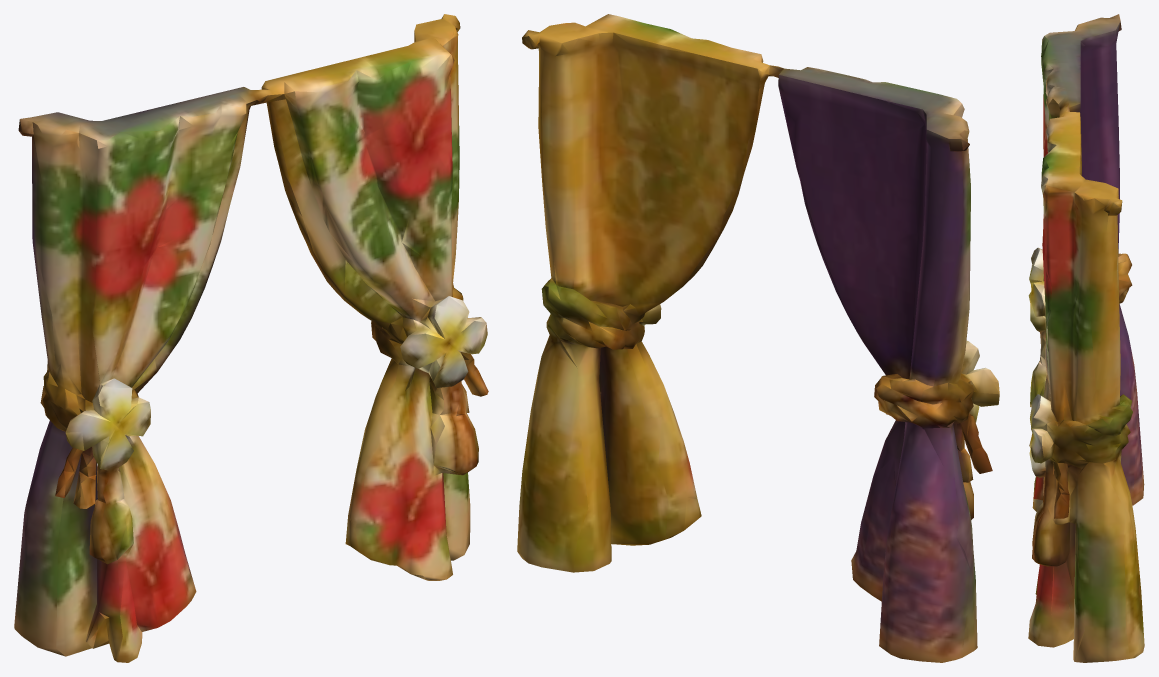
Rendered from curtain15.glb.
The picture shows the model from 3 angles, left to right: view 1: azimuth 30°, elevation 25°; view 2: azimuth 150°, elevation 25°; view 3: azimuth 270°, elevation 25°; orthographic projection. The views are drawn at different scales.
Bounding box in the file's own units: 0.2383 × 0.2699 × 0.0605.
1 material, 1 textured.
